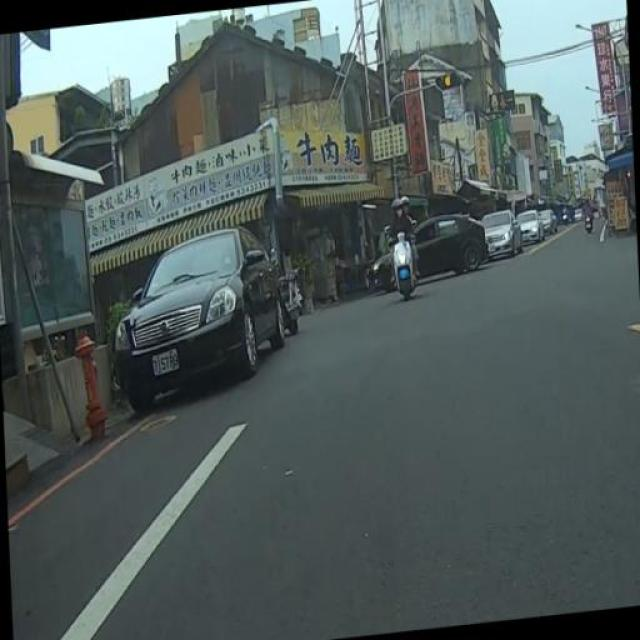illegalparking: (91, 201, 299, 422)
